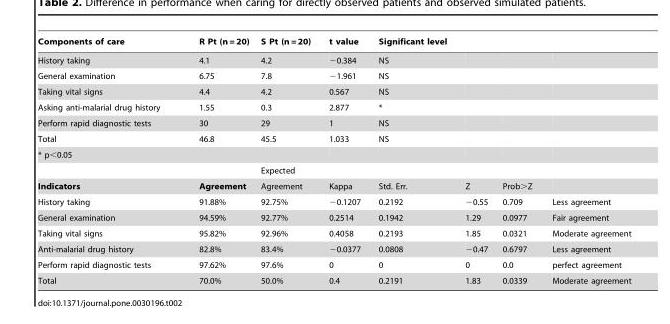table: (37, 36, 630, 284)
table column: (37, 36, 178, 284), (541, 36, 630, 284), (368, 36, 455, 284), (178, 36, 254, 284), (254, 36, 319, 284), (319, 36, 368, 284), (494, 36, 541, 284), (455, 36, 494, 284)
table column header: (37, 36, 630, 50)
table projected row header: (37, 146, 630, 162)
table row: (37, 50, 630, 67), (37, 67, 630, 83), (37, 83, 630, 99), (37, 99, 630, 115), (37, 130, 630, 146), (37, 146, 630, 162), (37, 162, 630, 178), (37, 193, 630, 209), (37, 209, 630, 225), (37, 225, 630, 241), (37, 256, 630, 272), (37, 115, 630, 130), (37, 178, 630, 193), (37, 241, 630, 256), (37, 36, 630, 50), (37, 272, 630, 284)
